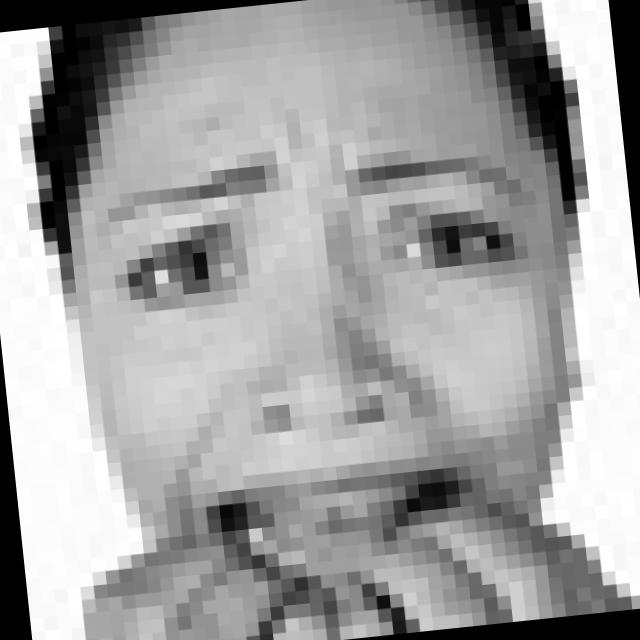fear: (88, 98, 563, 625)
